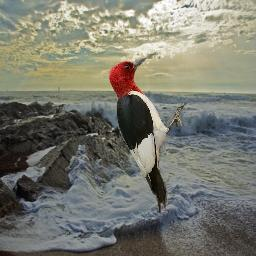Woodpecker: (107, 55, 187, 213)
